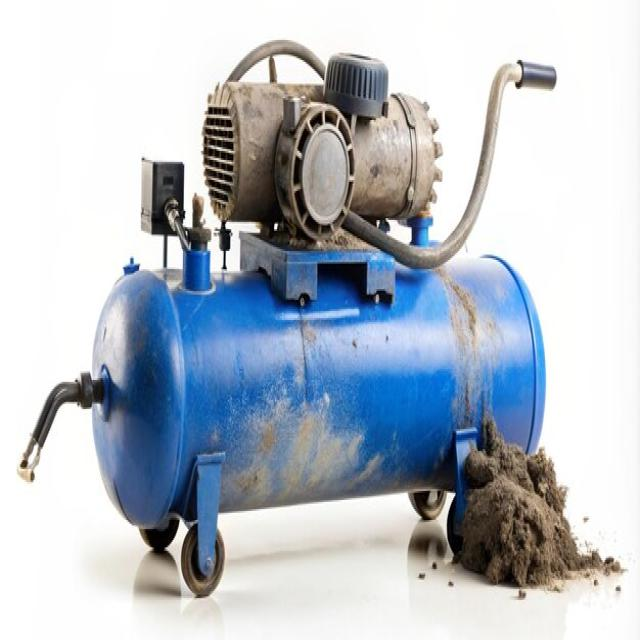compressor: (16, 36, 558, 598)
